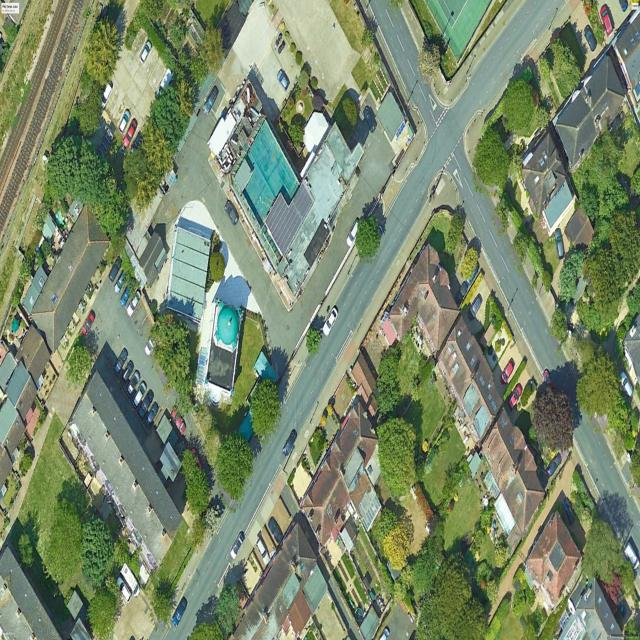Home: (70, 352, 182, 570), (233, 512, 328, 640), (301, 404, 380, 546), (31, 209, 109, 351), (483, 410, 546, 539), (439, 316, 502, 440), (390, 244, 459, 353), (525, 512, 582, 609), (523, 131, 575, 235), (560, 54, 625, 137), (559, 578, 622, 640), (554, 90, 598, 170), (613, 8, 640, 118), (15, 326, 51, 382), (3, 362, 37, 421), (0, 403, 25, 455), (6, 363, 30, 405)
mosque: (205, 299, 243, 398)
